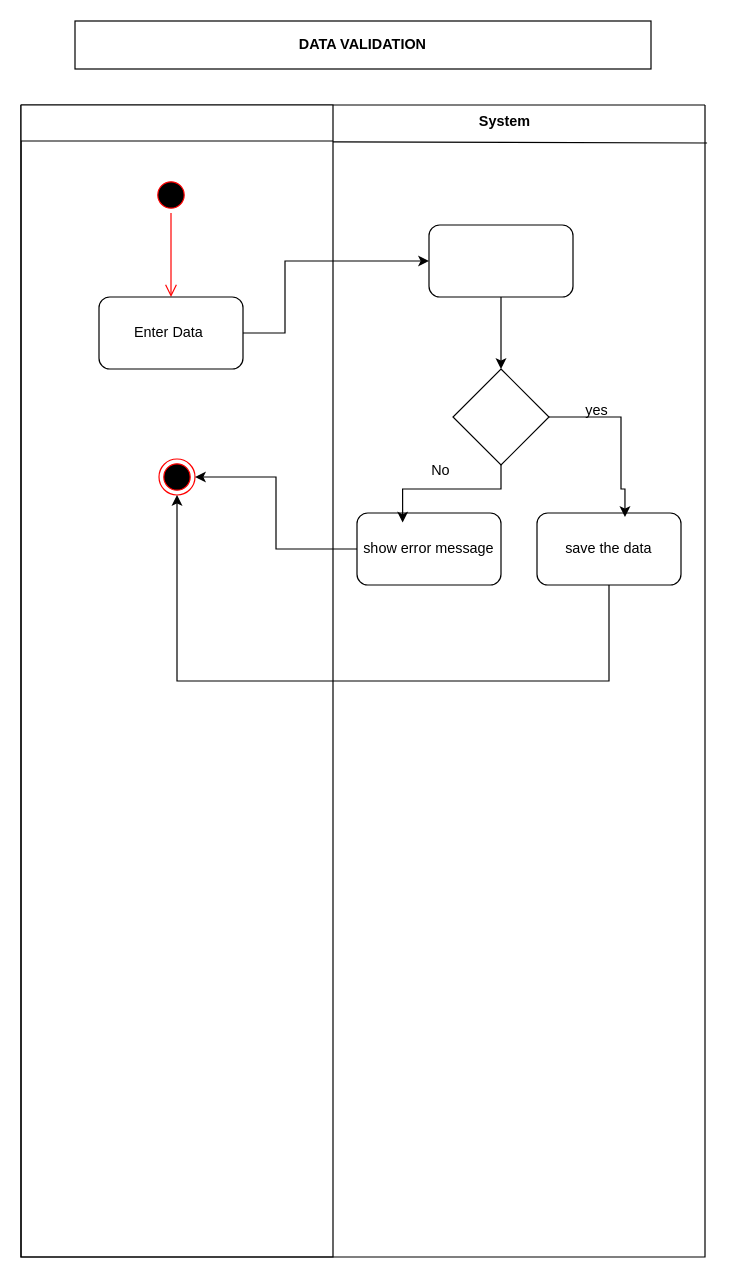
Image size: 730x1278. Some labels were removed from this diagram. Each missing label, with the box of its shape:
Users: (20, 104, 333, 1257)
Validate Input: (428, 224, 573, 297)
